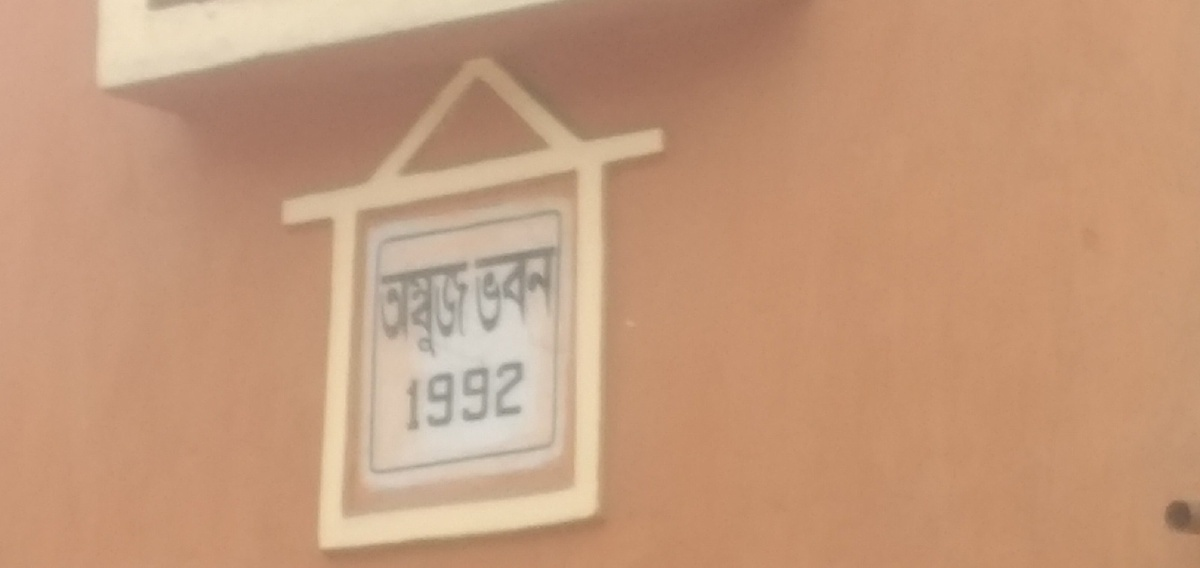text: (385, 258, 400, 369), (401, 258, 416, 369), (417, 258, 432, 369), (433, 258, 448, 369), (449, 258, 464, 369), (481, 244, 496, 341), (497, 244, 512, 341), (513, 244, 528, 341), (529, 244, 544, 341), (545, 244, 560, 341), (417, 357, 432, 437), (433, 357, 448, 437), (449, 357, 464, 437), (465, 357, 480, 437), (481, 357, 496, 437), (497, 357, 512, 437), (513, 357, 528, 437), (402, 357, 416, 437), (465, 258, 475, 369), (377, 258, 384, 369), (475, 244, 480, 341)
